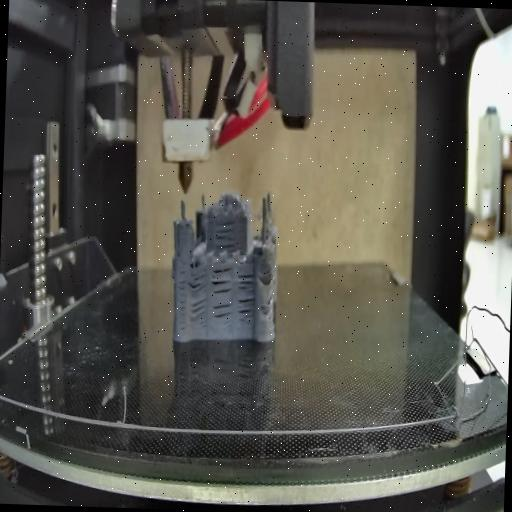cracks: (236, 267, 255, 322), (175, 268, 189, 332), (214, 216, 238, 252), (211, 266, 233, 296), (210, 300, 232, 326), (188, 269, 206, 294), (190, 299, 206, 323), (259, 294, 274, 316), (262, 264, 276, 287)
